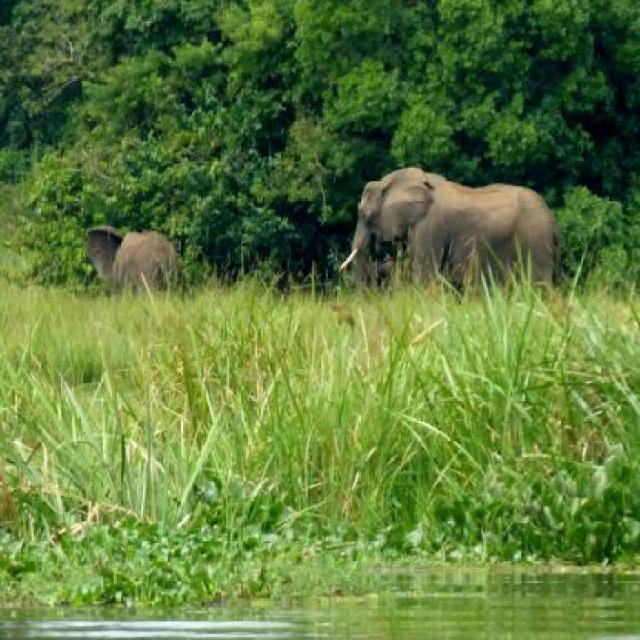Elephant: (331, 158, 566, 310)
